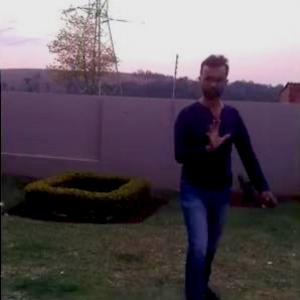follow_hand: (202, 114, 230, 151)
